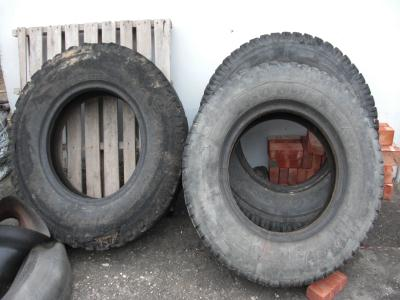tire: (179, 58, 385, 290), (6, 41, 190, 253)
